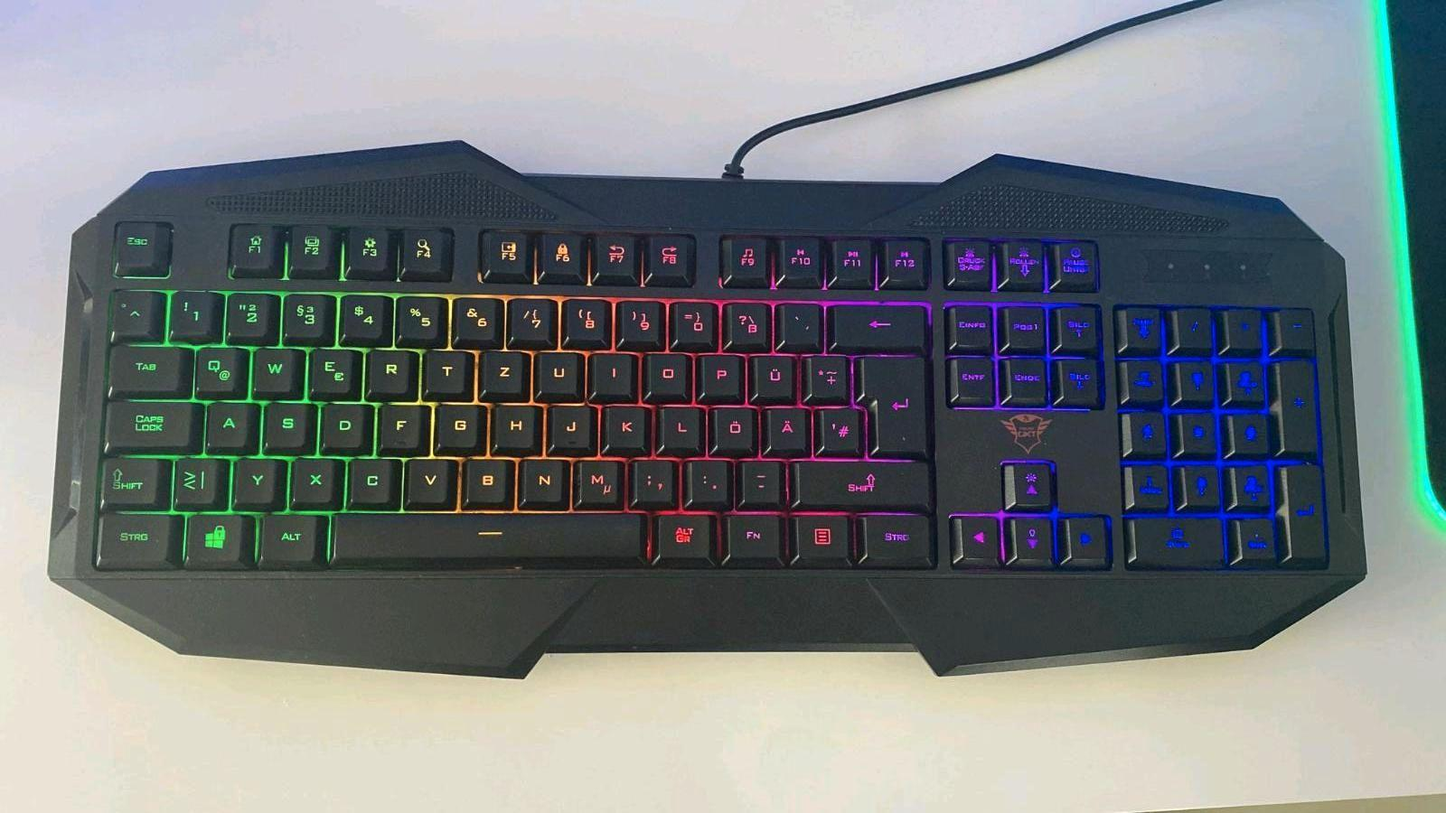0: (669, 295, 715, 343)
1: (171, 287, 220, 338)
2: (223, 287, 273, 338)
3: (279, 288, 330, 339)
4: (338, 289, 386, 338)
5: (393, 291, 442, 340)
6: (450, 292, 499, 341)
7: (505, 293, 553, 340)
8: (560, 293, 606, 341)
9: (615, 294, 661, 341)
a: (202, 397, 249, 446)
accent: (775, 297, 818, 343)
ae: (764, 402, 805, 449)
alt-left: (257, 509, 316, 561)
altgr-right: (652, 509, 709, 558)
b: (460, 453, 509, 502)
c: (345, 453, 392, 501)
caret: (112, 287, 157, 338)
comma: (629, 453, 671, 501)
d: (318, 397, 364, 447)
del: (828, 299, 922, 346)
e: (305, 343, 353, 394)
enter: (853, 350, 925, 453)
f: (376, 398, 419, 447)
g: (432, 398, 478, 446)
h: (490, 399, 535, 446)
hash: (816, 402, 858, 451)
i: (587, 348, 631, 393)
j: (547, 399, 589, 446)
k: (601, 400, 644, 446)
keyboard: (45, 173, 1377, 595)
l: (657, 401, 699, 447)
less: (169, 452, 217, 503)
m: (573, 454, 618, 503)
minus: (737, 455, 779, 501)
n: (518, 453, 563, 500)
o: (643, 349, 686, 393)
oe: (709, 402, 753, 450)
p: (697, 349, 739, 395)
plus: (803, 350, 845, 398)
point: (684, 454, 727, 500)
q: (190, 341, 242, 393)
r: (364, 344, 412, 392)
s: (261, 397, 306, 447)
shift-left: (96, 453, 157, 504)
shift-lock: (103, 397, 192, 447)
shift-right: (791, 455, 925, 505)
space: (326, 508, 643, 561)
ss: (722, 296, 767, 345)
strg-left: (91, 508, 170, 565)
strg-right: (857, 509, 929, 562)
t: (422, 345, 465, 390)
tab: (106, 341, 180, 391)
u: (533, 346, 578, 393)
ue: (749, 350, 793, 397)
v: (402, 453, 448, 501)
w: (249, 342, 294, 391)
x: (288, 453, 334, 501)
y: (231, 453, 276, 502)
z: (478, 346, 523, 392)
